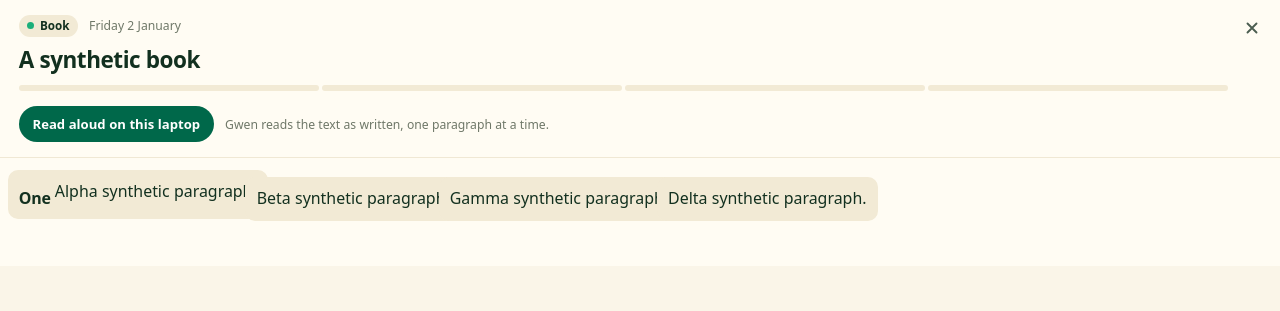
ReadAloud: one clock for the dock, the edge line and the map (t4 AC3) › one segment per paragraph; heard full, the playing one at currentTime/duration, the same value on the paragraph and the map
Expected: the text "Alpha synthetic paragraph." is shown, [55, 178, 257, 211]
What coordinates should you click on to do the following:
click the button "Read aloud on this laptop"
I would click on:
 (116, 124)
Its box is [19, 106, 214, 142].
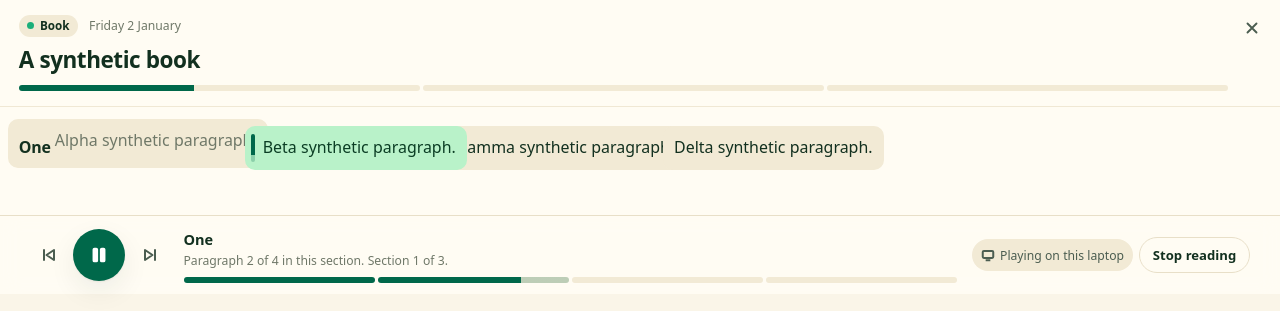
Expected: the text "Playing on this laptop" is shown, [972, 239, 1133, 271]
